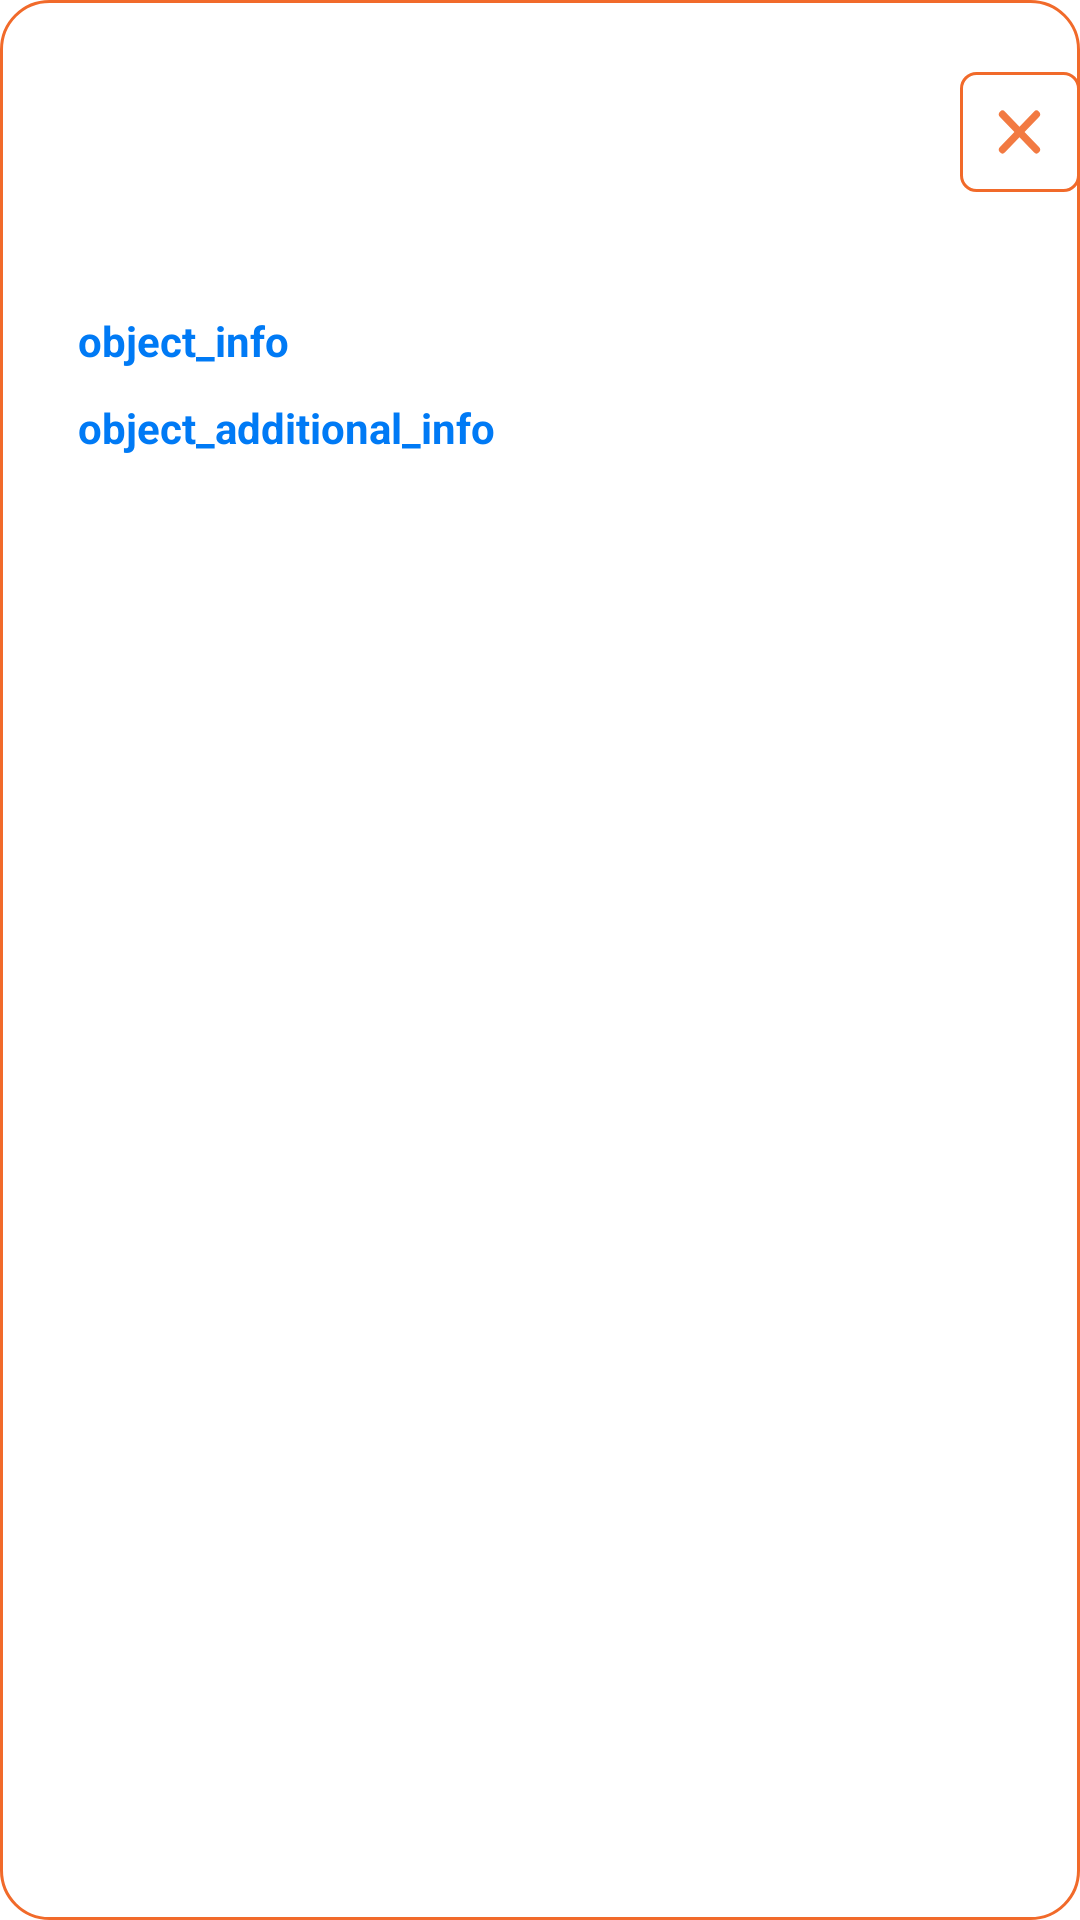

Icon bounding boxes for this 1080px x 1920px phone screenshot, format (x1, y1, x2, y2):
close: (960, 72, 1080, 192)
